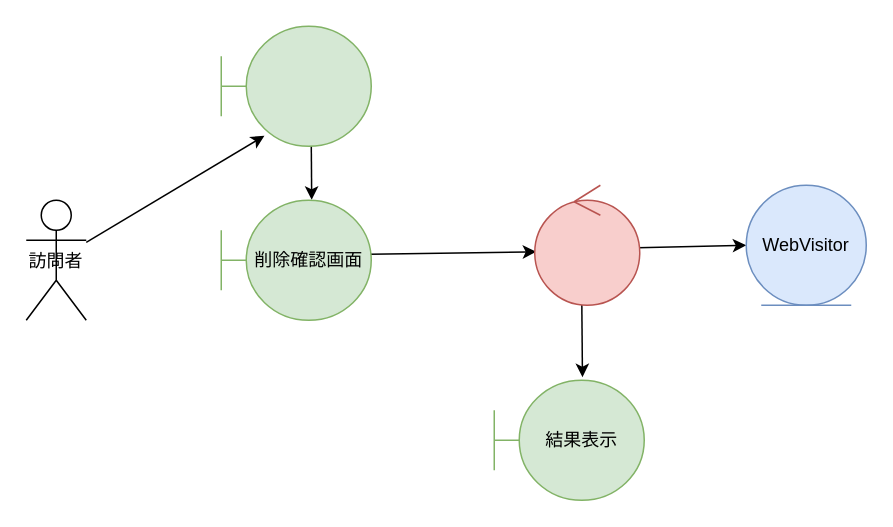
Some shapes in this 893 by 527 pixel diagram are drawn without their labels. The shapes that lost their labels are listed below. From the top down, each one's centre as x and y in pixels, then its label:
[295,85]: システムメニュー
[586,244]: 削除処理
